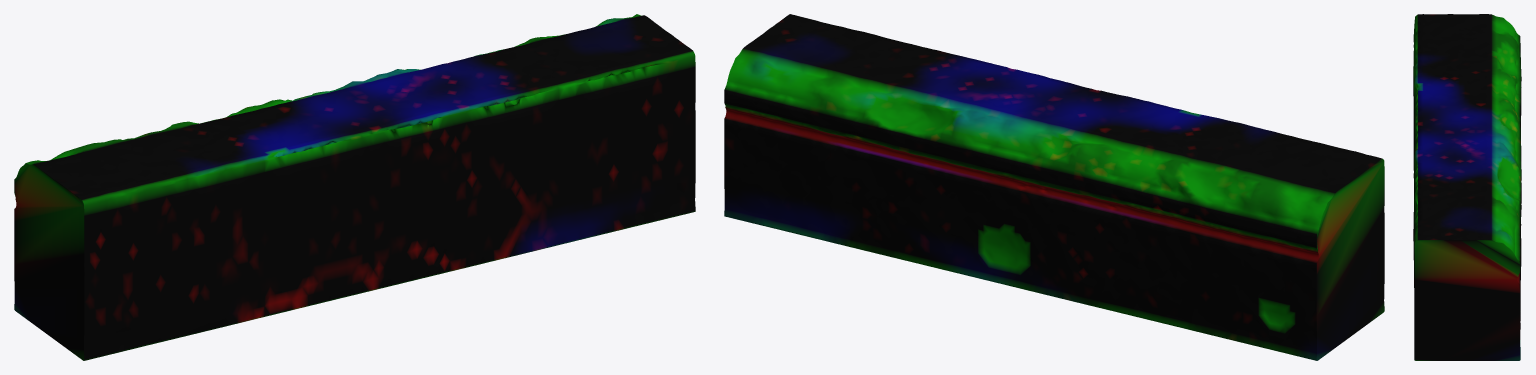
The model's file is SM_BoardKerb.glb.
3 views of the same model, side by side, from view 1: azimuth 30°, elevation 25°; view 2: azimuth 150°, elevation 25°; view 3: azimuth 270°, elevation 25° (orthographic). The views are drawn at different scales.
Parts seen in each view (by area): view 1: SM_BoardKerb; view 2: SM_BoardKerb; view 3: SM_BoardKerb.
Boxes of the visible parts, left/top/right/bottom form: SM_BoardKerb: left=14, top=14, right=695, bottom=360; SM_BoardKerb: left=724, top=14, right=1384, bottom=360; SM_BoardKerb: left=1413, top=14, right=1521, bottom=360.
Bounding box in the file's own units: 2 × 0.5032 × 0.4064.
